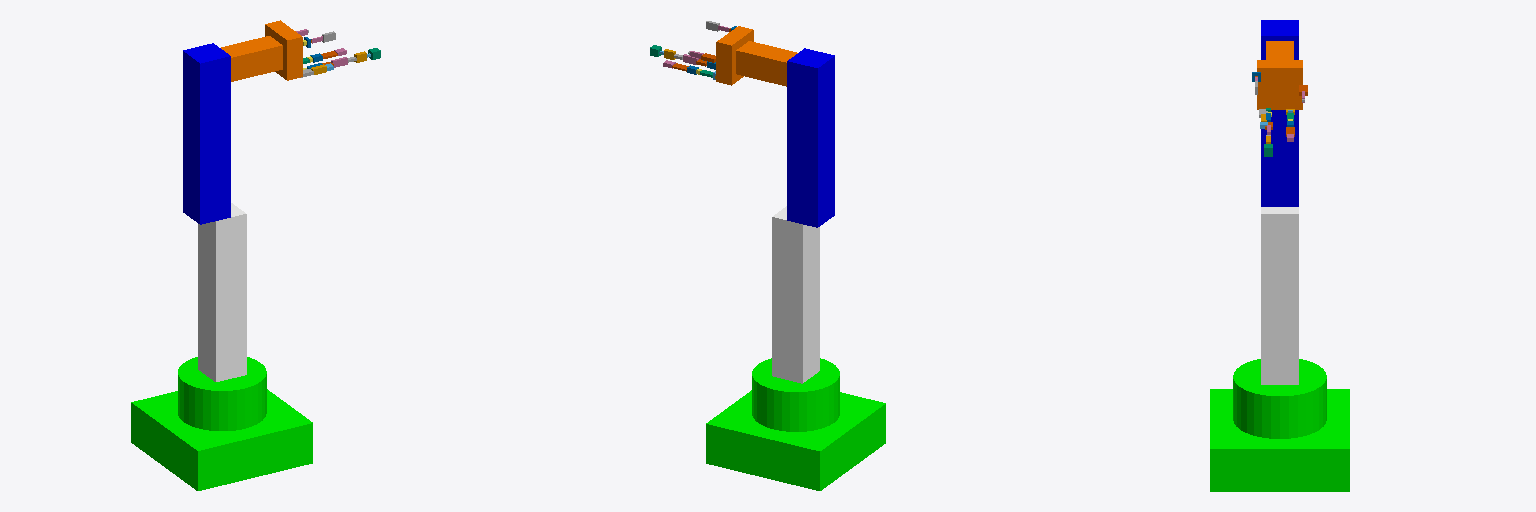
The robot description file, URDF, robot "robot":
<?xml version='1.0' encoding='utf-8'?>
<robot name="robot">
  <link name="base_link">
    <visual>
      <origin xyz="0 0 0.125" rpy="0 0 0" />
      <geometry>
        <box size="0.75 0.75 0.25" />
      </geometry>
      <material name="green" />
    </visual>
    <visual>
      <origin xyz="0 0 0.375" rpy="0 0 0" />
      <geometry>
        <cylinder length="0.25" radius="0.25" />
      </geometry>
      <material name="green">
        <color rgba="0 1 0 1" />
      </material>
    </visual>
    <collision>
      <geometry>
        <box size="0.75 0.75 0.5" />
      </geometry>
    </collision>
    <inertial>
      <mass value="0.5" />
      <inertia ixx="0.034" ixy="0.0" ixz="0.0" iyy="0.034" iyz="0.0" izz="0.034" />
    </inertial>
  </link>
  <link name="support_link">
    <visual>
      <origin xyz="0 0 0.5" rpy="0 0 0" />
      <geometry>
        <box size="0.2 0.2 1" />
      </geometry>
      <material name="white">
        <color rgba="1 1 1 1" />
      </material>
    </visual>
    <collision>
      <geometry>
        <box size="0.2 0.2 1" />
      </geometry>
    </collision>
    <inertial>
      <mass value="0.1" />
      <inertia ixx="0.01" ixy="0.0" ixz="0.0" iyy="0.01" iyz="0.0" izz="0.01" />
    </inertial>
  </link>
  <joint name="support_joint" type="continuous">
    <origin xyz="0 0 0.5" rpy="0 0 0" />
    <parent link="base_link" />
    <child link="support_link" />
    <axis xyz="0 0 1" />
  </joint>
  <link name="arm_link">
    <visual>
      <origin xyz="0 0 0.5" rpy="0 0 0" />
      <geometry>
        <box size="0.2 0.2 1" />
      </geometry>
      <material name="blue">
        <color rgba="0 0 1 1" />
      </material>
    </visual>
    <collision>
      <geometry>
        <box size="0.2 0.2 1" />
      </geometry>
    </collision>
    <inertial>
      <mass value="0.1" />
      <inertia ixx="0.01" ixy="0.0" ixz="0.0" iyy="0.01" iyz="0.0" izz="0.01" />
    </inertial>
  </link>
  <joint name="arm_joint" type="revolute">
    <origin xyz="-0.1 0 1" rpy="0 0 0" />
    <parent link="support_link" />
    <child link="arm_link" />
    <axis xyz="0 1 0" />
    <limit lower="-3.14" upper="3.14" effort="1.0" velocity="1.0" />
  </joint>
  <link name="wrist_link">
    <visual>
      <origin xyz="0 0 0.25" rpy="0 0 0" />
      <geometry>
        <box size="0.15 0.15 0.5" />
      </geometry>
      <material name="orange">
        <color rgba="1 0.5 0 1" />
      </material>
    </visual>
    <collision>
      <geometry>
        <box size="0.15 0.15 0.5" />
      </geometry>
    </collision>
    <inertial>
      <mass value="0.1" />
      <inertia ixx="0.01" ixy="0.0" ixz="0.0" iyy="0.01" iyz="0.0" izz="0.01" />
    </inertial>
  </link>
  <joint name="wrist_joint" type="fixed">
    <origin xyz="0 0 0.9" rpy="0 1.571 0" />
    <parent link="arm_link" />
    <child link="wrist_link" />
  </joint>
  <link name="palm_link">
    <visual>
      <origin xyz="0 0 0.05" rpy="0 0 0" />
      <geometry>
        <box size="0.25 0.25 0.1" />
      </geometry>
      <material name="orange" />
    </visual>
    <collision>
      <geometry>
        <box size="0.25 0.25 0.1" />
      </geometry>
    </collision>
    <inertial>
      <mass value="0.1" />
      <inertia ixx="0.01" ixy="0.0" ixz="0.0" iyy="0.01" iyz="0.0" izz="0.01" />
    </inertial>
  </link>
  <joint name="palm_joint" type="fixed">
    <origin xyz="0 0 0.45" rpy="0 0 0" />
    <parent link="wrist_link" />
    <child link="palm_link" />
  </joint>
  <link name="finger_link_0_0">
    <visual>
      <origin xyz="0 0 0.044" rpy="0 0 0" />
      <geometry>
        <box size="0.023 0.047 0.088" />
      </geometry>
    </visual>
    <collision>
      <geometry>
        <box size="0.023 0.047 0.088" />
      </geometry>
    </collision>
    <inertial>
      <mass value="0.029" />
      <inertia ixx="0.0" iyy="0.0" izz="0.0" ixy="0" ixz="0" iyz="0" />
    </inertial>
  </link>
  <joint name="finger_joint_palm_link_to_finger_link_0_0" type="revolute">
    <origin xyz="-0.014 0.125 0.1" rpy="0 0 0" />
    <parent link="palm_link" />
    <child link="finger_link_0_0" />
    <axis xyz="-1.0 0.0 0.0" />
    <limit lower="-3.142" upper="3.142" effort="10" velocity="10" />
  </joint>
  <link name="finger_link_0_1">
    <visual>
      <origin xyz="0 0 0.0415" rpy="0 0 0" />
      <geometry>
        <box size="0.029 0.017 0.083" />
      </geometry>
    </visual>
    <collision>
      <geometry>
        <box size="0.029 0.017 0.083" />
      </geometry>
    </collision>
    <inertial>
      <mass value="0.012" />
      <inertia ixx="0.0" iyy="0.0" izz="0.0" ixy="0" ixz="0" iyz="0" />
    </inertial>
  </link>
  <joint name="finger_joint_finger_link_0_0_to_finger_link_0_1" type="revolute">
    <origin xyz="0.0 0.0 0.088" rpy="0 0 0" />
    <parent link="finger_link_0_0" />
    <child link="finger_link_0_1" />
    <axis xyz="1.0 0.0 0.0" />
    <limit lower="-3.142" upper="3.142" effort="10" velocity="10" />
  </joint>
  <link name="finger_link_0_2">
    <visual>
      <origin xyz="0 0 0.006" rpy="0 0 0" />
      <geometry>
        <box size="0.012 0.016 0.012" />
      </geometry>
    </visual>
    <collision>
      <geometry>
        <box size="0.012 0.016 0.012" />
      </geometry>
    </collision>
    <inertial>
      <mass value="0.001" />
      <inertia ixx="0.0" iyy="0.0" izz="0.0" ixy="0" ixz="0" iyz="0" />
    </inertial>
  </link>
  <joint name="finger_joint_finger_link_0_1_to_finger_link_0_2" type="revolute">
    <origin xyz="0.0 0.0 0.083" rpy="0 0 0" />
    <parent link="finger_link_0_1" />
    <child link="finger_link_0_2" />
    <axis xyz="0.0 1.0 0.0" />
    <limit lower="-3.142" upper="3.142" effort="10" velocity="10" />
  </joint>
  <link name="finger_link_1_0">
    <visual>
      <origin xyz="0 0 0.017" rpy="0 0 0" />
      <geometry>
        <box size="0.017 0.049 0.034" />
      </geometry>
    </visual>
    <collision>
      <geometry>
        <box size="0.017 0.049 0.034" />
      </geometry>
    </collision>
    <inertial>
      <mass value="0.008" />
      <inertia ixx="0.0" iyy="0.0" izz="0.0" ixy="0" ixz="0" iyz="0" />
    </inertial>
  </link>
  <joint name="finger_joint_palm_link_to_finger_link_1_0" type="revolute">
    <origin xyz="0.125 0.055 0.1" rpy="0 0 0" />
    <parent link="palm_link" />
    <child link="finger_link_1_0" />
    <axis xyz="0.0 1.0 0.0" />
    <limit lower="-3.142" upper="3.142" effort="10" velocity="10" />
  </joint>
  <link name="finger_link_1_1">
    <visual>
      <origin xyz="0 0 0.0115" rpy="0 0 0" />
      <geometry>
        <box size="0.041 0.03 0.023" />
      </geometry>
    </visual>
    <collision>
      <geometry>
        <box size="0.041 0.03 0.023" />
      </geometry>
    </collision>
    <inertial>
      <mass value="0.008" />
      <inertia ixx="0.0" iyy="0.0" izz="0.0" ixy="0" ixz="0" iyz="0" />
    </inertial>
  </link>
  <joint name="finger_joint_finger_link_1_0_to_finger_link_1_1" type="revolute">
    <origin xyz="0.0 0.0 0.034" rpy="0 0 0" />
    <parent link="finger_link_1_0" />
    <child link="finger_link_1_1" />
    <axis xyz="1.0 0.0 0.0" />
    <limit lower="-3.142" upper="3.142" effort="10" velocity="10" />
  </joint>
  <link name="finger_link_1_2">
    <visual>
      <origin xyz="0 0 0.0415" rpy="0 0 0" />
      <geometry>
        <box size="0.017 0.04 0.083" />
      </geometry>
    </visual>
    <collision>
      <geometry>
        <box size="0.017 0.04 0.083" />
      </geometry>
    </collision>
    <inertial>
      <mass value="0.017" />
      <inertia ixx="0.0" iyy="0.0" izz="0.0" ixy="0" ixz="0" iyz="0" />
    </inertial>
  </link>
  <joint name="finger_joint_finger_link_1_1_to_finger_link_1_2" type="revolute">
    <origin xyz="0.0 0.0 0.023" rpy="0 0 0" />
    <parent link="finger_link_1_1" />
    <child link="finger_link_1_2" />
    <axis xyz="0.0 1.0 0.0" />
    <limit lower="-3.142" upper="3.142" effort="10" velocity="10" />
  </joint>
  <link name="finger_link_1_3">
    <visual>
      <origin xyz="0 0 0.012" rpy="0 0 0" />
      <geometry>
        <box size="0.024 0.027 0.024" />
      </geometry>
    </visual>
    <collision>
      <geometry>
        <box size="0.024 0.027 0.024" />
      </geometry>
    </collision>
    <inertial>
      <mass value="0.005" />
      <inertia ixx="0.0" iyy="0.0" izz="0.0" ixy="0" ixz="0" iyz="0" />
    </inertial>
  </link>
  <joint name="finger_joint_finger_link_1_2_to_finger_link_1_3" type="revolute">
    <origin xyz="0.0 0.0 0.083" rpy="0 0 0" />
    <parent link="finger_link_1_2" />
    <child link="finger_link_1_3" />
    <axis xyz="1.0 0.0 0.0" />
    <limit lower="-3.142" upper="3.142" effort="10" velocity="10" />
  </joint>
  <link name="finger_link_1_4">
    <visual>
      <origin xyz="0 0 0.029" rpy="0 0 0" />
      <geometry>
        <box size="0.032 0.035 0.058" />
      </geometry>
    </visual>
    <collision>
      <geometry>
        <box size="0.032 0.035 0.058" />
      </geometry>
    </collision>
    <inertial>
      <mass value="0.019" />
      <inertia ixx="0.0" iyy="0.0" izz="0.0" ixy="0" ixz="0" iyz="0" />
    </inertial>
  </link>
  <joint name="finger_joint_finger_link_1_3_to_finger_link_1_4" type="revolute">
    <origin xyz="0.0 0.0 0.024" rpy="0 0 0" />
    <parent link="finger_link_1_3" />
    <child link="finger_link_1_4" />
    <axis xyz="0.0 1.0 0.0" />
    <limit lower="-3.142" upper="3.142" effort="10" velocity="10" />
  </joint>
  <link name="finger_link_1_5">
    <visual>
      <origin xyz="0 0 0.0485" rpy="0 0 0" />
      <geometry>
        <box size="0.011 0.05 0.097" />
      </geometry>
    </visual>
    <collision>
      <geometry>
        <box size="0.011 0.05 0.097" />
      </geometry>
    </collision>
    <inertial>
      <mass value="0.016" />
      <inertia ixx="0.0" iyy="0.0" izz="0.0" ixy="0" ixz="0" iyz="0" />
    </inertial>
  </link>
  <joint name="finger_joint_finger_link_1_4_to_finger_link_1_5" type="revolute">
    <origin xyz="0.0 0.0 0.058" rpy="0 0 0" />
    <parent link="finger_link_1_4" />
    <child link="finger_link_1_5" />
    <axis xyz="1.0 0.0 0.0" />
    <limit lower="-3.142" upper="3.142" effort="10" velocity="10" />
  </joint>
  <link name="finger_link_1_6">
    <visual>
      <origin xyz="0 0 0.029" rpy="0 0 0" />
      <geometry>
        <box size="0.024 0.039 0.058" />
      </geometry>
    </visual>
    <collision>
      <geometry>
        <box size="0.024 0.039 0.058" />
      </geometry>
    </collision>
    <inertial>
      <mass value="0.016" />
      <inertia ixx="0.0" iyy="0.0" izz="0.0" ixy="0" ixz="0" iyz="0" />
    </inertial>
  </link>
  <joint name="finger_joint_finger_link_1_5_to_finger_link_1_6" type="revolute">
    <origin xyz="0.0 0.0 0.097" rpy="0 0 0" />
    <parent link="finger_link_1_5" />
    <child link="finger_link_1_6" />
    <axis xyz="1.0 0.0 0.0" />
    <limit lower="-3.142" upper="3.142" effort="10" velocity="10" />
  </joint>
  <link name="finger_link_2_0">
    <visual>
      <origin xyz="0 0 0.04" rpy="0 0 0" />
      <geometry>
        <box size="0.021 0.045 0.08" />
      </geometry>
    </visual>
    <collision>
      <geometry>
        <box size="0.021 0.045 0.08" />
      </geometry>
    </collision>
    <inertial>
      <mass value="0.023" />
      <inertia ixx="0.0" iyy="0.0" izz="0.0" ixy="0" ixz="0" iyz="0" />
    </inertial>
  </link>
  <joint name="finger_joint_palm_link_to_finger_link_2_0" type="revolute">
    <origin xyz="0.125 -0.087 0.1" rpy="0 0 0" />
    <parent link="palm_link" />
    <child link="finger_link_2_0" />
    <axis xyz="0.0 1.0 0.0" />
    <limit lower="-3.142" upper="3.142" effort="10" velocity="10" />
  </joint>
  <link name="finger_link_2_1">
    <visual>
      <origin xyz="0 0 0.044" rpy="0 0 0" />
      <geometry>
        <box size="0.036 0.032 0.088" />
      </geometry>
    </visual>
    <collision>
      <geometry>
        <box size="0.036 0.032 0.088" />
      </geometry>
    </collision>
    <inertial>
      <mass value="0.03" />
      <inertia ixx="0.0" iyy="0.0" izz="0.0" ixy="0" ixz="0" iyz="0" />
    </inertial>
  </link>
  <joint name="finger_joint_finger_link_2_0_to_finger_link_2_1" type="revolute">
    <origin xyz="0.0 0.0 0.08" rpy="0 0 0" />
    <parent link="finger_link_2_0" />
    <child link="finger_link_2_1" />
    <axis xyz="1.0 0.0 0.0" />
    <limit lower="-3.142" upper="3.142" effort="10" velocity="10" />
  </joint>
  <link name="finger_link_2_2">
    <visual>
      <origin xyz="0 0 0.023" rpy="0 0 0" />
      <geometry>
        <box size="0.022 0.041 0.046" />
      </geometry>
    </visual>
    <collision>
      <geometry>
        <box size="0.022 0.041 0.046" />
      </geometry>
    </collision>
    <inertial>
      <mass value="0.012" />
      <inertia ixx="0.0" iyy="0.0" izz="0.0" ixy="0" ixz="0" iyz="0" />
    </inertial>
  </link>
  <joint name="finger_joint_finger_link_2_1_to_finger_link_2_2" type="revolute">
    <origin xyz="0.0 0.0 0.088" rpy="0 0 0" />
    <parent link="finger_link_2_1" />
    <child link="finger_link_2_2" />
    <axis xyz="0.0 1.0 0.0" />
    <limit lower="-3.142" upper="3.142" effort="10" velocity="10" />
  </joint>
  <link name="finger_link_3_0">
    <visual>
      <origin xyz="0 0 0.017" rpy="0 0 0" />
      <geometry>
        <box size="0.032 0.024 0.034" />
      </geometry>
    </visual>
    <collision>
      <geometry>
        <box size="0.032 0.024 0.034" />
      </geometry>
    </collision>
    <inertial>
      <mass value="0.008" />
      <inertia ixx="0.0" iyy="0.0" izz="0.0" ixy="0" ixz="0" iyz="0" />
    </inertial>
  </link>
  <joint name="finger_joint_palm_link_to_finger_link_3_0" type="revolute">
    <origin xyz="0.125 -0.06 0.1" rpy="0 0 0" />
    <parent link="palm_link" />
    <child link="finger_link_3_0" />
    <axis xyz="0.0 1.0 0.0" />
    <limit lower="-3.142" upper="3.142" effort="10" velocity="10" />
  </joint>
  <link name="finger_link_3_1">
    <visual>
      <origin xyz="0 0 0.018" rpy="0 0 0" />
      <geometry>
        <box size="0.015 0.037 0.036" />
      </geometry>
    </visual>
    <collision>
      <geometry>
        <box size="0.015 0.037 0.036" />
      </geometry>
    </collision>
    <inertial>
      <mass value="0.006" />
      <inertia ixx="0.0" iyy="0.0" izz="0.0" ixy="0" ixz="0" iyz="0" />
    </inertial>
  </link>
  <joint name="finger_joint_finger_link_3_0_to_finger_link_3_1" type="revolute">
    <origin xyz="0.0 0.0 0.034" rpy="0 0 0" />
    <parent link="finger_link_3_0" />
    <child link="finger_link_3_1" />
    <axis xyz="0.0 1.0 0.0" />
    <limit lower="-3.142" upper="3.142" effort="10" velocity="10" />
  </joint>
  <link name="finger_link_3_2">
    <visual>
      <origin xyz="0 0 0.047" rpy="0 0 0" />
      <geometry>
        <box size="0.037 0.028 0.094" />
      </geometry>
    </visual>
    <collision>
      <geometry>
        <box size="0.037 0.028 0.094" />
      </geometry>
    </collision>
    <inertial>
      <mass value="0.029" />
      <inertia ixx="0.0" iyy="0.0" izz="0.0" ixy="0" ixz="0" iyz="0" />
    </inertial>
  </link>
  <joint name="finger_joint_finger_link_3_1_to_finger_link_3_2" type="revolute">
    <origin xyz="0.0 0.0 0.036" rpy="0 0 0" />
    <parent link="finger_link_3_1" />
    <child link="finger_link_3_2" />
    <axis xyz="1.0 0.0 0.0" />
    <limit lower="-3.142" upper="3.142" effort="10" velocity="10" />
  </joint>
  <link name="finger_link_3_3">
    <visual>
      <origin xyz="0 0 0.031" rpy="0 0 0" />
      <geometry>
        <box size="0.019 0.043 0.062" />
      </geometry>
    </visual>
    <collision>
      <geometry>
        <box size="0.019 0.043 0.062" />
      </geometry>
    </collision>
    <inertial>
      <mass value="0.015" />
      <inertia ixx="0.0" iyy="0.0" izz="0.0" ixy="0" ixz="0" iyz="0" />
    </inertial>
  </link>
  <joint name="finger_joint_finger_link_3_2_to_finger_link_3_3" type="revolute">
    <origin xyz="0.0 0.0 0.094" rpy="0 0 0" />
    <parent link="finger_link_3_2" />
    <child link="finger_link_3_3" />
    <axis xyz="1.0 0.0 0.0" />
    <limit lower="-3.142" upper="3.142" effort="10" velocity="10" />
  </joint>
  <link name="finger_link_3_4">
    <visual>
      <origin xyz="0 0 0.0485" rpy="0 0 0" />
      <geometry>
        <box size="0.042 0.019 0.097" />
      </geometry>
    </visual>
    <collision>
      <geometry>
        <box size="0.042 0.019 0.097" />
      </geometry>
    </collision>
    <inertial>
      <mass value="0.023" />
      <inertia ixx="0.0" iyy="0.0" izz="0.0" ixy="0" ixz="0" iyz="0" />
    </inertial>
  </link>
  <joint name="finger_joint_finger_link_3_3_to_finger_link_3_4" type="revolute">
    <origin xyz="0.0 0.0 0.062" rpy="0 0 0" />
    <parent link="finger_link_3_3" />
    <child link="finger_link_3_4" />
    <axis xyz="0.0 1.0 0.0" />
    <limit lower="-3.142" upper="3.142" effort="10" velocity="10" />
  </joint>
  <link name="finger_link_3_5">
    <visual>
      <origin xyz="0 0 0.0285" rpy="0 0 0" />
      <geometry>
        <box size="0.016 0.026 0.057" />
      </geometry>
    </visual>
    <collision>
      <geometry>
        <box size="0.016 0.026 0.057" />
      </geometry>
    </collision>
    <inertial>
      <mass value="0.007" />
      <inertia ixx="0.0" iyy="0.0" izz="0.0" ixy="0" ixz="0" iyz="0" />
    </inertial>
  </link>
  <joint name="finger_joint_finger_link_3_4_to_finger_link_3_5" type="revolute">
    <origin xyz="0.0 0.0 0.097" rpy="0 0 0" />
    <parent link="finger_link_3_4" />
    <child link="finger_link_3_5" />
    <axis xyz="1.0 0.0 0.0" />
    <limit lower="-3.142" upper="3.142" effort="10" velocity="10" />
  </joint>
  <link name="finger_link_3_6">
    <visual>
      <origin xyz="0 0 0.0325" rpy="0 0 0" />
      <geometry>
        <box size="0.048 0.025 0.065" />
      </geometry>
    </visual>
    <collision>
      <geometry>
        <box size="0.048 0.025 0.065" />
      </geometry>
    </collision>
    <inertial>
      <mass value="0.023" />
      <inertia ixx="0.0" iyy="0.0" izz="0.0" ixy="0" ixz="0" iyz="0" />
    </inertial>
  </link>
  <joint name="finger_joint_finger_link_3_5_to_finger_link_3_6" type="revolute">
    <origin xyz="0.0 0.0 0.057" rpy="0 0 0" />
    <parent link="finger_link_3_5" />
    <child link="finger_link_3_6" />
    <axis xyz="1.0 0.0 0.0" />
    <limit lower="-3.142" upper="3.142" effort="10" velocity="10" />
  </joint>
  <link name="finger_link_3_7">
    <visual>
      <origin xyz="0 0 0.016" rpy="0 0 0" />
      <geometry>
        <box size="0.014 0.017 0.032" />
      </geometry>
    </visual>
    <collision>
      <geometry>
        <box size="0.014 0.017 0.032" />
      </geometry>
    </collision>
    <inertial>
      <mass value="0.002" />
      <inertia ixx="0.0" iyy="0.0" izz="0.0" ixy="0" ixz="0" iyz="0" />
    </inertial>
  </link>
  <joint name="finger_joint_finger_link_3_6_to_finger_link_3_7" type="revolute">
    <origin xyz="0.0 0.0 0.065" rpy="0 0 0" />
    <parent link="finger_link_3_6" />
    <child link="finger_link_3_7" />
    <axis xyz="1.0 0.0 0.0" />
    <limit lower="-3.142" upper="3.142" effort="10" velocity="10" />
  </joint>
  <link name="finger_link_3_8">
    <visual>
      <origin xyz="0 0 0.027" rpy="0 0 0" />
      <geometry>
        <box size="0.048 0.047 0.054" />
      </geometry>
    </visual>
    <collision>
      <geometry>
        <box size="0.048 0.047 0.054" />
      </geometry>
    </collision>
    <inertial>
      <mass value="0.037" />
      <inertia ixx="0.0" iyy="0.0" izz="0.0" ixy="0" ixz="0" iyz="0" />
    </inertial>
  </link>
  <joint name="finger_joint_finger_link_3_7_to_finger_link_3_8" type="revolute">
    <origin xyz="0.0 0.0 0.032" rpy="0 0 0" />
    <parent link="finger_link_3_7" />
    <child link="finger_link_3_8" />
    <axis xyz="1.0 0.0 0.0" />
    <limit lower="-3.142" upper="3.142" effort="10" velocity="10" />
  </joint>
  <link name="finger_link_4_0">
    <visual>
      <origin xyz="0 0 0.011" rpy="0 0 0" />
      <geometry>
        <box size="0.021 0.026 0.022" />
      </geometry>
    </visual>
    <collision>
      <geometry>
        <box size="0.021 0.026 0.022" />
      </geometry>
    </collision>
    <inertial>
      <mass value="0.004" />
      <inertia ixx="0.0" iyy="0.0" izz="0.0" ixy="0" ixz="0" iyz="0" />
    </inertial>
  </link>
  <joint name="finger_joint_palm_link_to_finger_link_4_0" type="revolute">
    <origin xyz="-0.084 -0.125 0.1" rpy="0 0 0" />
    <parent link="palm_link" />
    <child link="finger_link_4_0" />
    <axis xyz="1.0 0.0 0.0" />
    <limit lower="-3.142" upper="3.142" effort="10" velocity="10" />
  </joint>
  <link name="finger_link_4_1">
    <visual>
      <origin xyz="0 0 0.0075" rpy="0 0 0" />
      <geometry>
        <box size="0.05 0.048 0.015" />
      </geometry>
    </visual>
    <collision>
      <geometry>
        <box size="0.05 0.048 0.015" />
      </geometry>
    </collision>
    <inertial>
      <mass value="0.011" />
      <inertia ixx="0.0" iyy="0.0" izz="0.0" ixy="0" ixz="0" iyz="0" />
    </inertial>
  </link>
  <joint name="finger_joint_finger_link_4_0_to_finger_link_4_1" type="revolute">
    <origin xyz="0.0 0.0 0.022" rpy="0 0 0" />
    <parent link="finger_link_4_0" />
    <child link="finger_link_4_1" />
    <axis xyz="1.0 0.0 0.0" />
    <limit lower="-3.142" upper="3.142" effort="10" velocity="10" />
  </joint>
  <link name="finger_link_4_2">
    <visual>
      <origin xyz="0 0 0.0095" rpy="0 0 0" />
      <geometry>
        <box size="0.021 0.012 0.019" />
      </geometry>
    </visual>
    <collision>
      <geometry>
        <box size="0.021 0.012 0.019" />
      </geometry>
    </collision>
    <inertial>
      <mass value="0.001" />
      <inertia ixx="0.0" iyy="0.0" izz="0.0" ixy="0" ixz="0" iyz="0" />
    </inertial>
  </link>
  <joint name="finger_joint_finger_link_4_1_to_finger_link_4_2" type="revolute">
    <origin xyz="0.0 0.0 0.015" rpy="0 0 0" />
    <parent link="finger_link_4_1" />
    <child link="finger_link_4_2" />
    <axis xyz="0.0 1.0 0.0" />
    <limit lower="-3.142" upper="3.142" effort="10" velocity="10" />
  </joint>
  <link name="finger_link_4_3">
    <visual>
      <origin xyz="0 0 0.037" rpy="0 0 0" />
      <geometry>
        <box size="0.025 0.011 0.074" />
      </geometry>
    </visual>
    <collision>
      <geometry>
        <box size="0.025 0.011 0.074" />
      </geometry>
    </collision>
    <inertial>
      <mass value="0.006" />
      <inertia ixx="0.0" iyy="0.0" izz="0.0" ixy="0" ixz="0" iyz="0" />
    </inertial>
  </link>
  <joint name="finger_joint_finger_link_4_2_to_finger_link_4_3" type="revolute">
    <origin xyz="0.0 0.0 0.019" rpy="0 0 0" />
    <parent link="finger_link_4_2" />
    <child link="finger_link_4_3" />
    <axis xyz="1.0 0.0 0.0" />
    <limit lower="-3.142" upper="3.142" effort="10" velocity="10" />
  </joint>
  <link name="finger_link_4_4">
    <visual>
      <origin xyz="0 0 0.0385" rpy="0 0 0" />
      <geometry>
        <box size="0.045 0.02 0.077" />
      </geometry>
    </visual>
    <collision>
      <geometry>
        <box size="0.045 0.02 0.077" />
      </geometry>
    </collision>
    <inertial>
      <mass value="0.021" />
      <inertia ixx="0.0" iyy="0.0" izz="0.0" ixy="0" ixz="0" iyz="0" />
    </inertial>
  </link>
  <joint name="finger_joint_finger_link_4_3_to_finger_link_4_4" type="revolute">
    <origin xyz="0.0 0.0 0.074" rpy="0 0 0" />
    <parent link="finger_link_4_3" />
    <child link="finger_link_4_4" />
    <axis xyz="1.0 0.0 0.0" />
    <limit lower="-3.142" upper="3.142" effort="10" velocity="10" />
  </joint>
</robot>

--- What the picture shows (computed from the rendered views, not written in the file) ---
Views: 3 orthographic renders of the robot side by side, from view 1: azimuth 30°, elevation 25°; view 2: azimuth 150°, elevation 25°; view 3: azimuth 270°, elevation 25°.
Robot: robot — 32 links, 31 joints (28 revolute, 1 continuous, 2 fixed); root link base_link; default pose: all joints at 0.
Links seen in each view (by area): view 1: base_link, arm_link, support_link, wrist_link, palm_link; view 2: base_link, arm_link, support_link, wrist_link, palm_link; view 3: base_link, support_link, arm_link, palm_link, wrist_link.
Link boxes in pixels (x1=…): base_link: x1=131, y1=357, x2=312, y2=490; arm_link: x1=183, y1=43, x2=230, y2=224; support_link: x1=198, y1=203, x2=246, y2=381; wrist_link: x1=221, y1=36, x2=282, y2=81; palm_link: x1=265, y1=20, x2=302, y2=80; base_link: x1=706, y1=358, x2=885, y2=490; arm_link: x1=787, y1=48, x2=834, y2=227; support_link: x1=772, y1=206, x2=819, y2=383; wrist_link: x1=736, y1=41, x2=797, y2=86; palm_link: x1=716, y1=26, x2=753, y2=85; base_link: x1=1210, y1=359, x2=1349, y2=491; support_link: x1=1261, y1=207, x2=1298, y2=384; arm_link: x1=1261, y1=20, x2=1298, y2=206; palm_link: x1=1257, y1=60, x2=1302, y2=109; wrist_link: x1=1266, y1=41, x2=1293, y2=59.
Size in the robot's own frame: 1.36 by 0.75 by 2.52 metres.
Geometry: primitives only (box / cylinder / sphere), no mesh files.